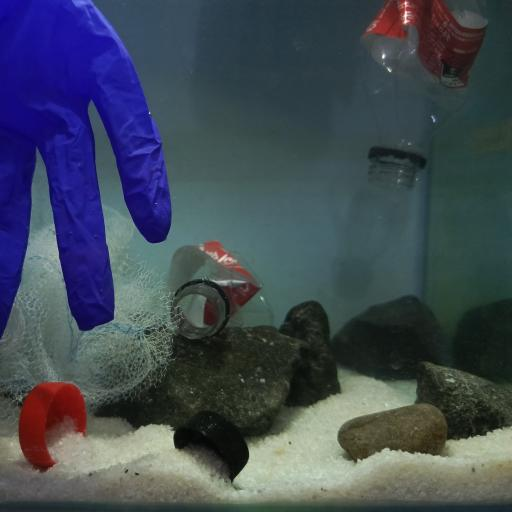bottle_cap: (19, 382, 87, 470), (173, 408, 249, 480)
glove: (3, 0, 175, 349)
net: (1, 174, 180, 413)
plastic_bottle: (359, 0, 512, 190), (167, 239, 276, 340)
